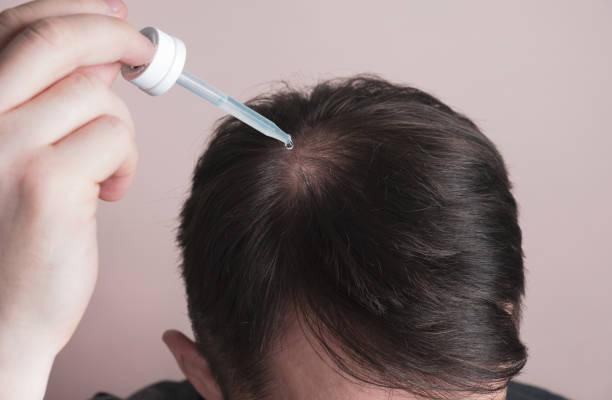low hair density: (281, 128, 337, 191)
